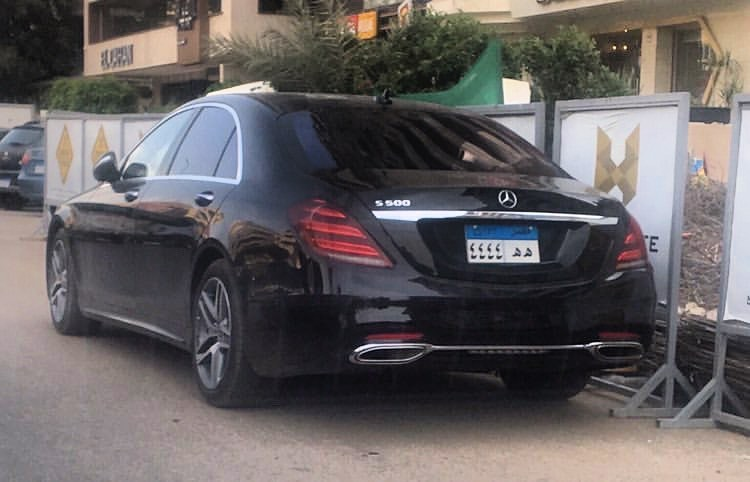carpl: (468, 235, 540, 263)
